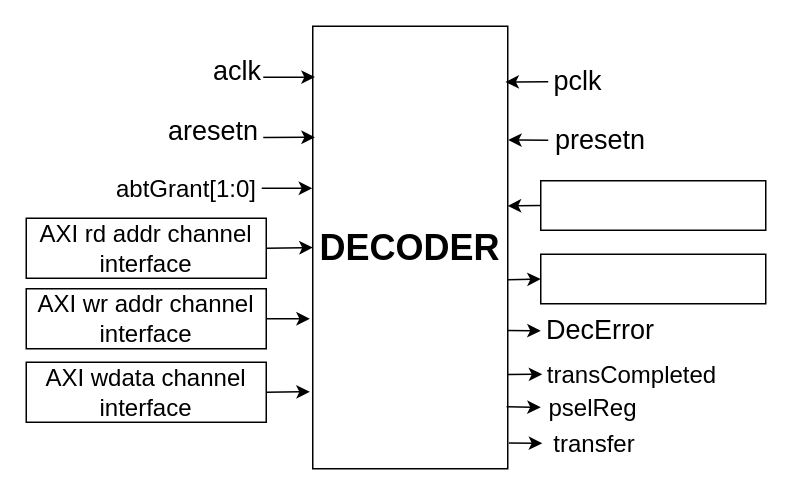
The diagram is 792 pixels wide and 495 high, and some of its shapes have lost their labels. The shapes that lost their labels are listed below. From the top down, each one's centre as x and y in pixels, then its label:
pixel 652 204: APB master inputs
pixel 652 278: APB master outputs
